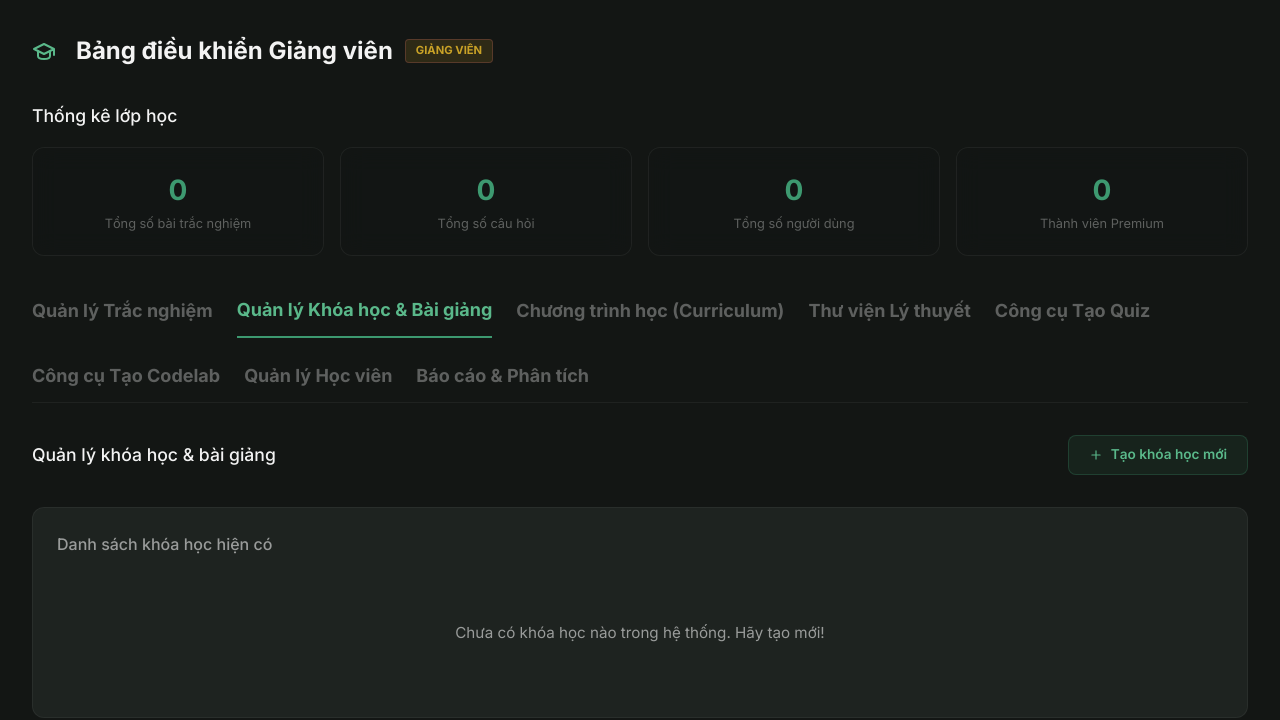
Test: TeacherPanelView — P0 Tests › Student List Render › renders student list table headers
Click the tab "Quản lý Học viên": point(318, 382) [244,362,392,402]
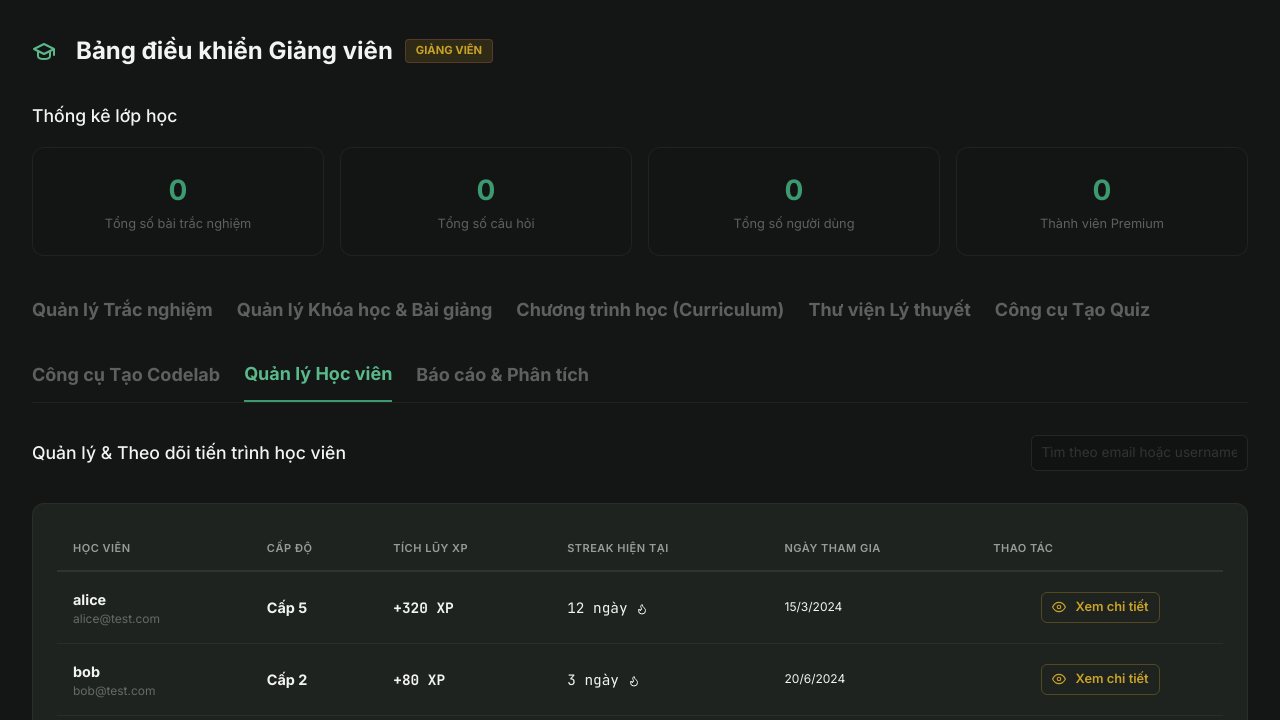
Expected: the text "Cấp độ" is shown, [251,528,377,571]
Expected: the text "Tích lũy XP" is shown, [377,528,551,571]
